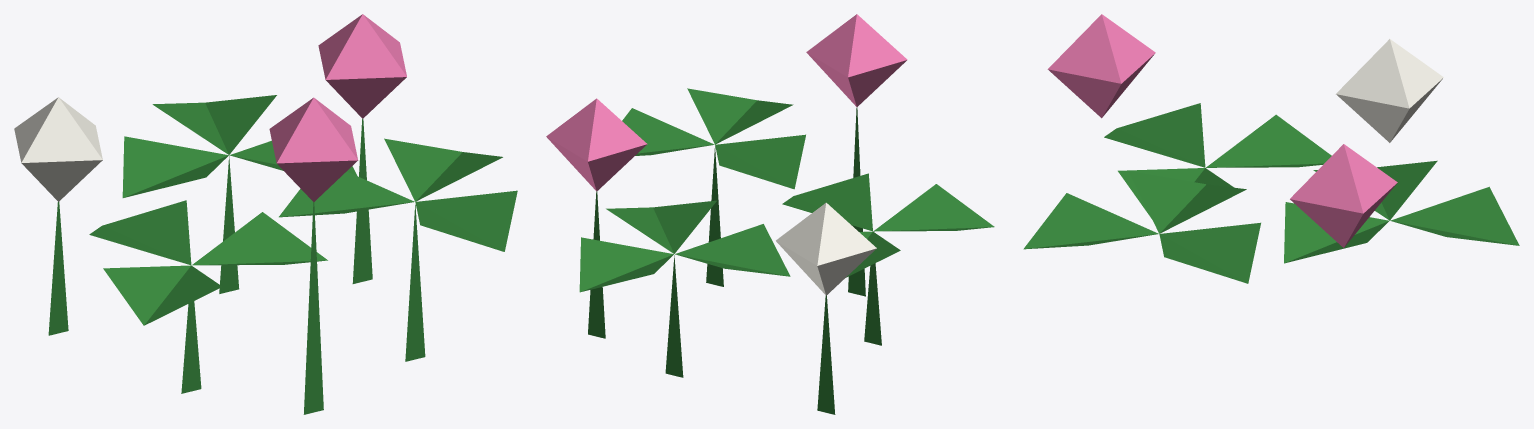
Rendered from clover.glb.
3 renders of one model, left to right at view 1: azimuth 30°, elevation 25°; view 2: azimuth 150°, elevation 25°; view 3: azimuth 270°, elevation 25°, orthographic. The views are drawn at different scales.
Parts seen in each view (by area): view 1: crop; view 2: crop; view 3: crop.
Part boxes in pixels (x1,y1,x2,y2): crop: (14,14,517,414); crop: (546,14,994,414); crop: (1023,14,1519,283).
Bounding box in the file's own units: 0.3839 × 0.3 × 0.4309.
